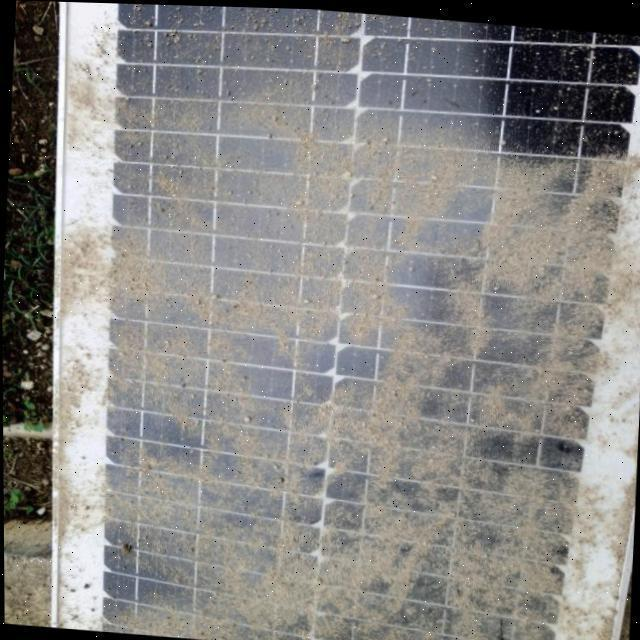Surface Contaminant: (60, 43, 592, 640)
